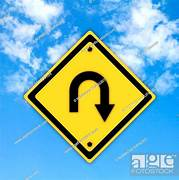back: (64, 65, 119, 125)
